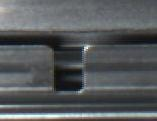oneu: (43, 41, 93, 97)
